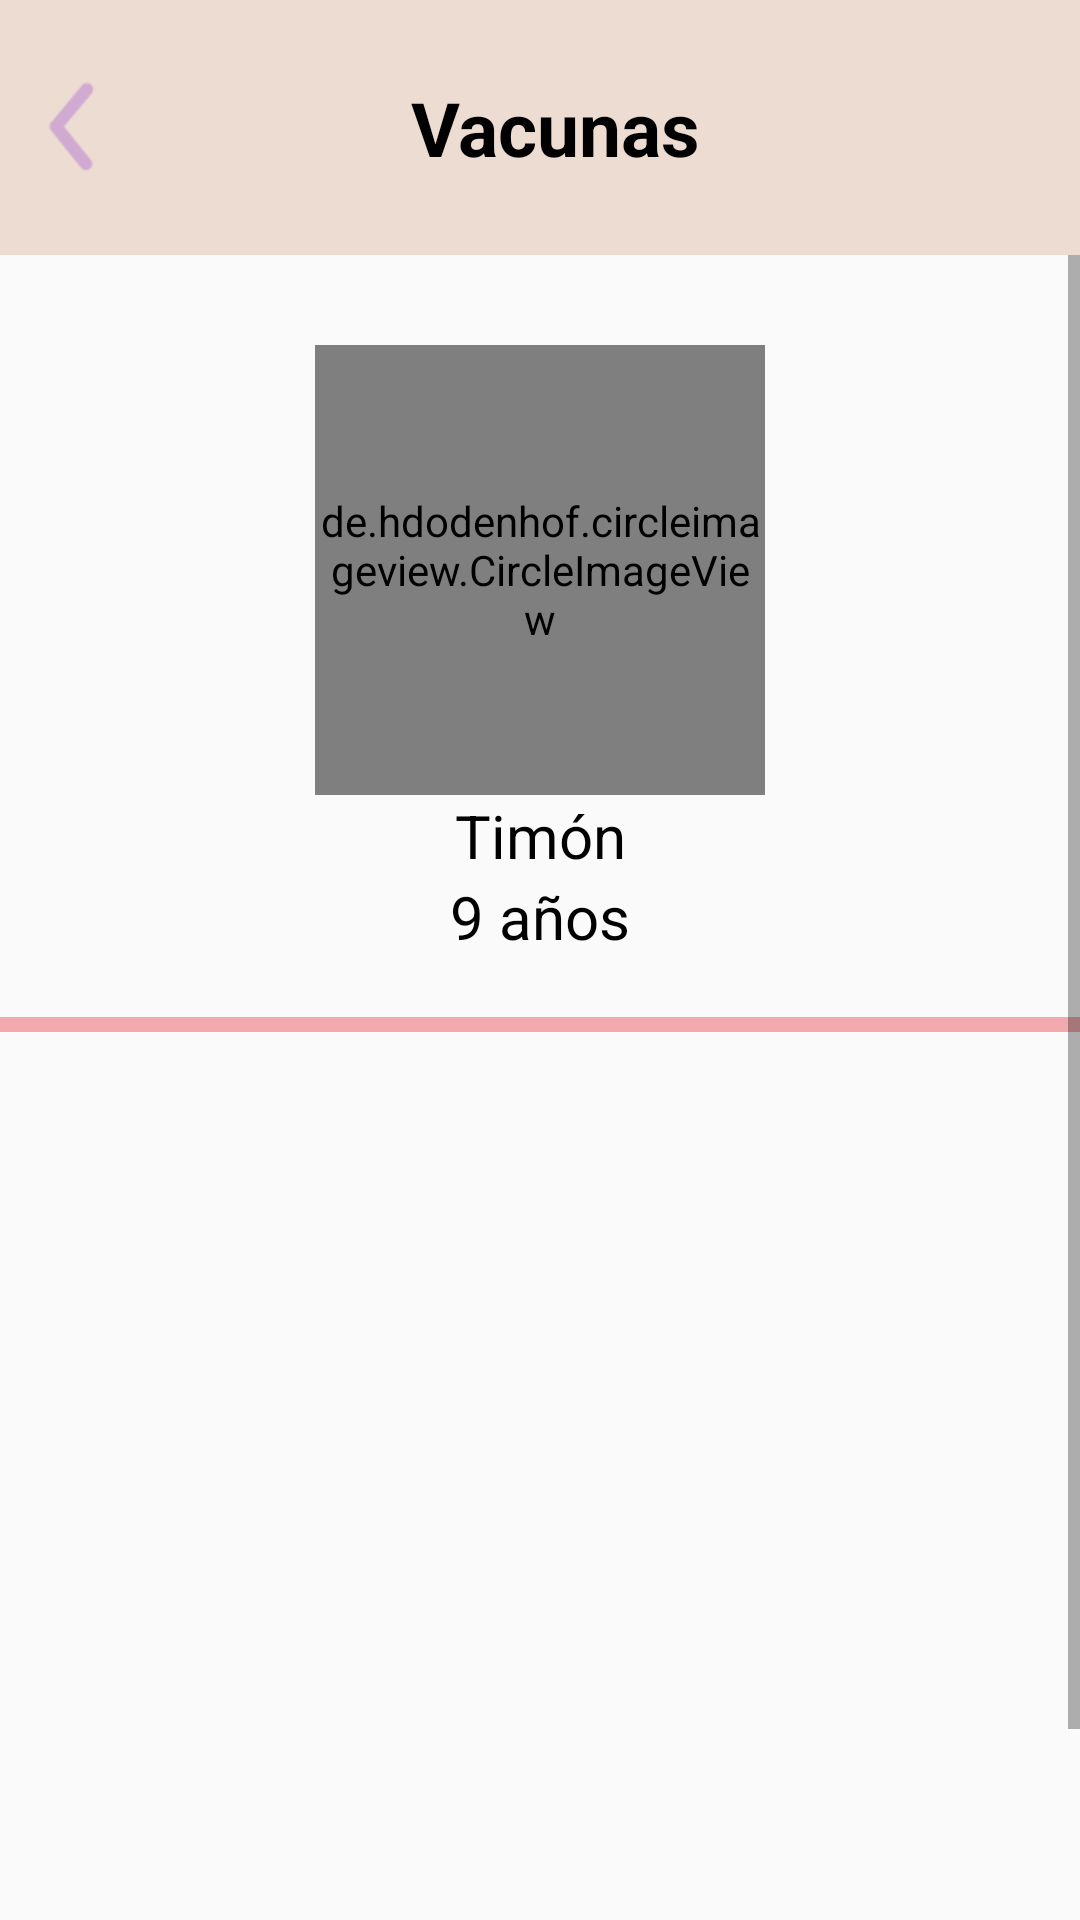

Screen size 1080*1920. Icon name, then its center in pixels as [x,y]:
back: [71,126]
